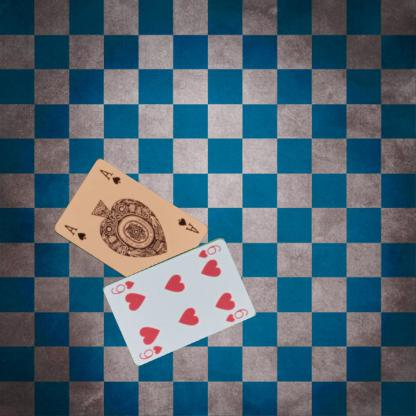6h: (136, 342, 164, 361), (195, 242, 222, 259)
As: (61, 222, 87, 242), (175, 215, 200, 235)
